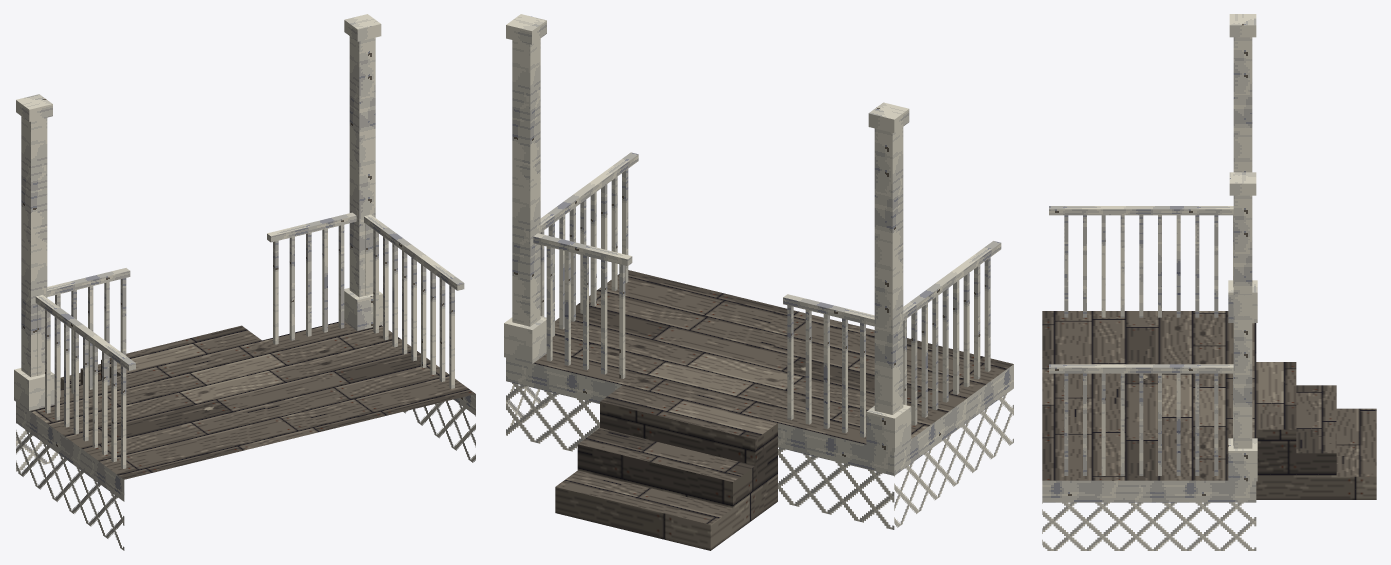
File: RES_Ext_PorchDeck_3x1.6.obj
The picture shows the model from 3 angles, left to right: view 1: azimuth 30°, elevation 25°; view 2: azimuth 150°, elevation 25°; view 3: azimuth 270°, elevation 25°; orthographic projection. The views are drawn at different scales.
Visible parts, largest first — view 1: RES_Ext_PorchDeck_3x1.6_Mesh_M_Arch_TrimPainted, RES_Ext_PorchDeck_3x1.6_Mesh_M_Arch_WoodPlanksAged, RES_Ext_PorchDeck_3x1.6_Mesh_M_Res_Lattice; view 2: RES_Ext_PorchDeck_3x1.6_Mesh_M_Arch_WoodPlanksAged, RES_Ext_PorchDeck_3x1.6_Mesh_M_Arch_TrimPainted, RES_Ext_PorchDeck_3x1.6_Mesh_M_Res_Lattice; view 3: RES_Ext_PorchDeck_3x1.6_Mesh_M_Arch_WoodPlanksAged, RES_Ext_PorchDeck_3x1.6_Mesh_M_Arch_TrimPainted, RES_Ext_PorchDeck_3x1.6_Mesh_M_Res_Lattice.
Boxes of the visible parts, left/top/right/bottom form: RES_Ext_PorchDeck_3x1.6_Mesh_M_Arch_TrimPainted: left=14, top=14, right=475, bottom=501; RES_Ext_PorchDeck_3x1.6_Mesh_M_Arch_WoodPlanksAged: left=30, top=322, right=475, bottom=479; RES_Ext_PorchDeck_3x1.6_Mesh_M_Res_Lattice: left=16, top=401, right=475, bottom=550; RES_Ext_PorchDeck_3x1.6_Mesh_M_Arch_WoodPlanksAged: left=533, top=270, right=1013, bottom=550; RES_Ext_PorchDeck_3x1.6_Mesh_M_Arch_TrimPainted: left=504, top=14, right=1013, bottom=475; RES_Ext_PorchDeck_3x1.6_Mesh_M_Res_Lattice: left=506, top=382, right=1013, bottom=529; RES_Ext_PorchDeck_3x1.6_Mesh_M_Arch_WoodPlanksAged: left=1042, top=311, right=1376, bottom=499; RES_Ext_PorchDeck_3x1.6_Mesh_M_Arch_TrimPainted: left=1042, top=14, right=1257, bottom=502; RES_Ext_PorchDeck_3x1.6_Mesh_M_Res_Lattice: left=1042, top=502, right=1256, bottom=550.
Size of the model in its own units: 3.02 by 3.03 by 2.5.
Materials: 3 (3 with a texture image).
